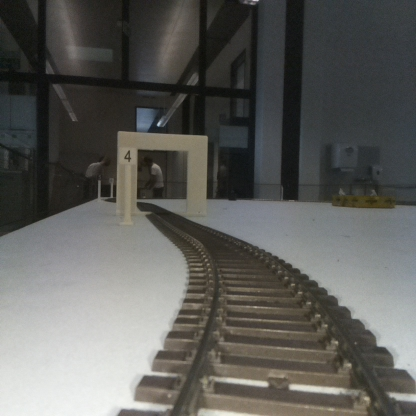white-info-4: (120, 146, 135, 221)
